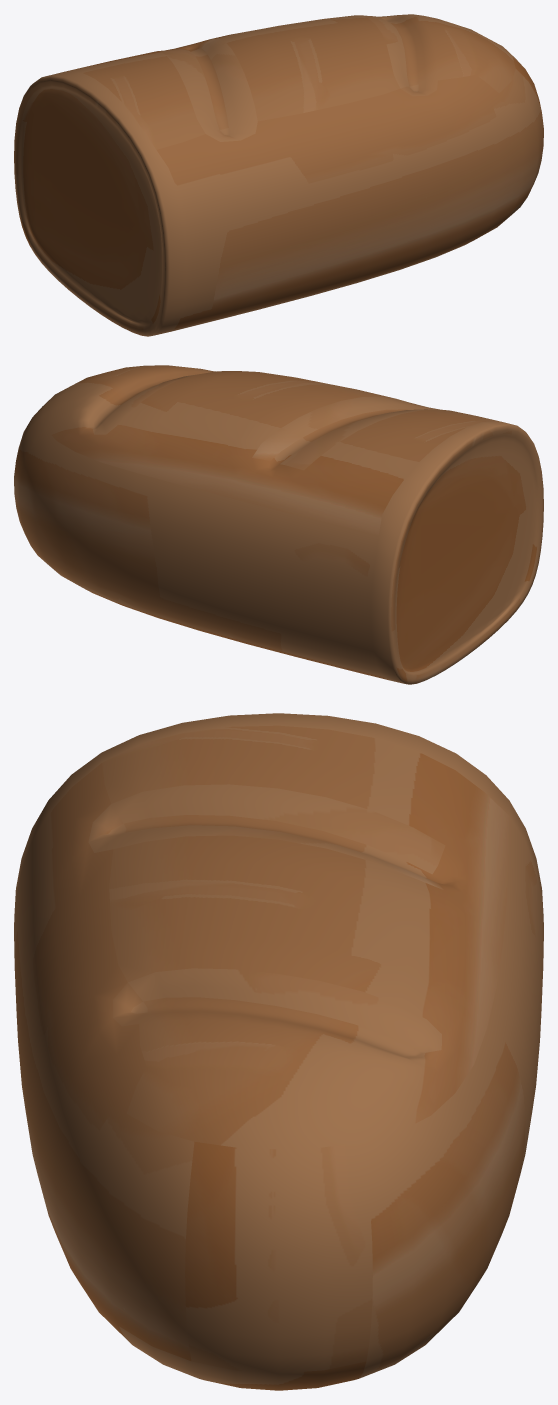
The model's file is HalfBreadLoaf.fbx.
The picture shows the model from 3 angles, top to bottom: view 1: azimuth 30°, elevation 25°; view 2: azimuth 150°, elevation 25°; view 3: azimuth 270°, elevation 25°; orthographic projection. The views are drawn at different scales.
Parts seen in each view (by area): view 1: HalfBreadLoaf; view 2: HalfBreadLoaf; view 3: HalfBreadLoaf.
Part boxes in pixels (x1,y1,x2,y2): HalfBreadLoaf: (14, 14, 543, 336); HalfBreadLoaf: (14, 365, 543, 684); HalfBreadLoaf: (14, 713, 543, 1390).
Bounding box in the file's own units: 404 × 190 × 246.
